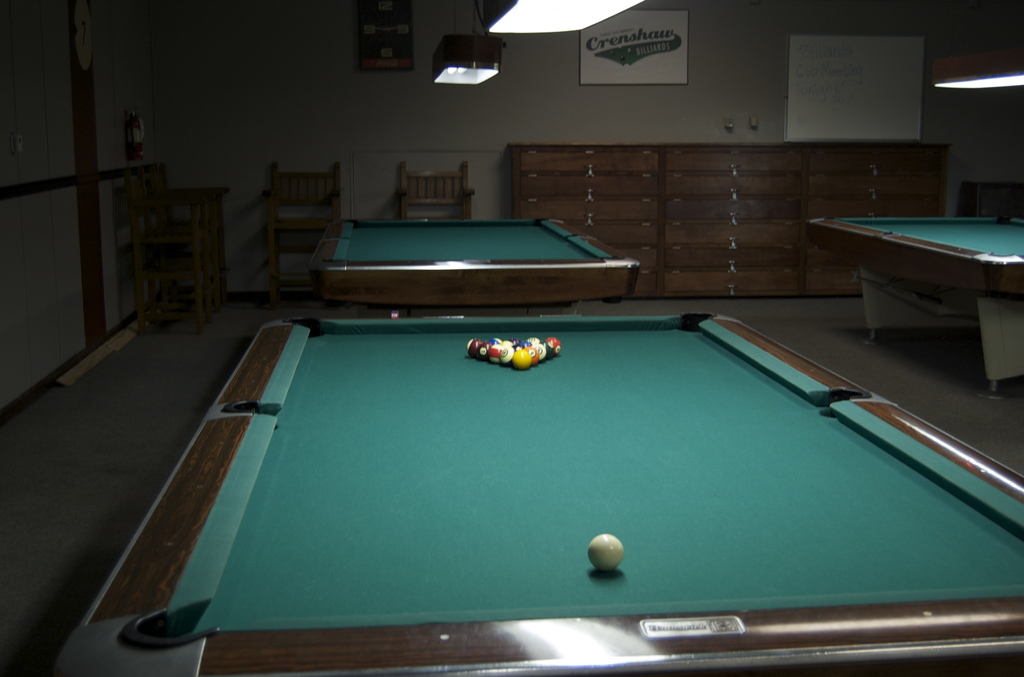Ball: (466, 339, 562, 369), (589, 532, 625, 575)
